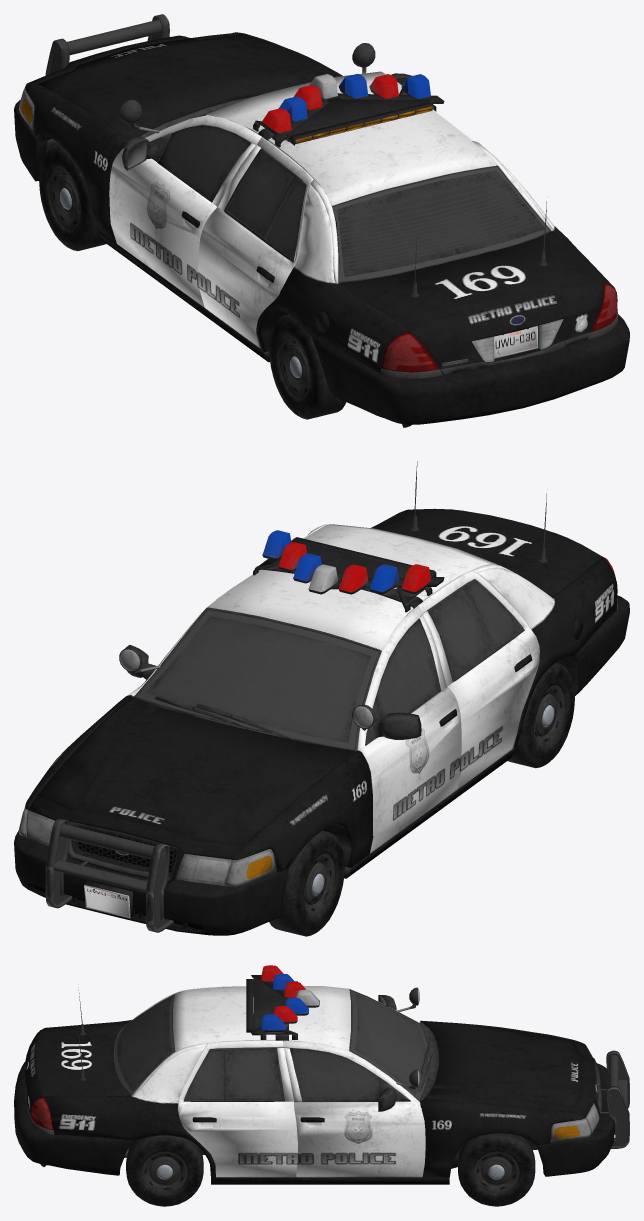
3 views of the same model, one above another, from view 1: azimuth 30°, elevation 25°; view 2: azimuth 150°, elevation 25°; view 3: azimuth 270°, elevation 25° (orthographic). The views are drawn at different scales.
Visible parts, largest first — view 1: static_police • main_frame, static_police • glass, static_police • wheels_and_parts, static_police • fs_vector, light_red, light_blue, static_police • plate; view 2: static_police • main_frame, static_police • glass, static_police • wheels_and_parts, static_police • fs_vector, light_red, light_blue, static_police • plate; view 3: static_police • main_frame, static_police • glass, static_police • wheels_and_parts, static_police • fs_vector, light_blue, light_red.
Part boxes in pixels (x1,y1,x2,y2): static_police • main_frame: (14,32,629,424); static_police • glass: (18,87,617,372); static_police • wheels_and_parts: (39,14,547,419); static_police • fs_vector: (253,74,444,147); light_red: (262,74,398,132); light_blue: (278,74,430,121); static_police • plate: (494,326,538,358); static_police • main_frame: (14,508,629,935); static_police • glass: (18,544,617,887); static_police • wheels_and_parts: (45,461,574,936); static_police • fs_vector: (253,537,444,612); light_red: (278,542,430,592); light_blue: (262,530,398,591); static_police • plate: (83,880,134,919); static_police • main_frame: (14,985,614,1184); static_police • glass: (31,988,599,1141); static_police • wheels_and_parts: (25,987,629,1206); static_police • fs_vector: (246,975,319,1040); light_blue: (261,973,308,1030); light_red: (261,965,305,1021).
Size of the model in its own units: 2.15 by 1.65 by 5.39.
9 materials, 9 textured.
